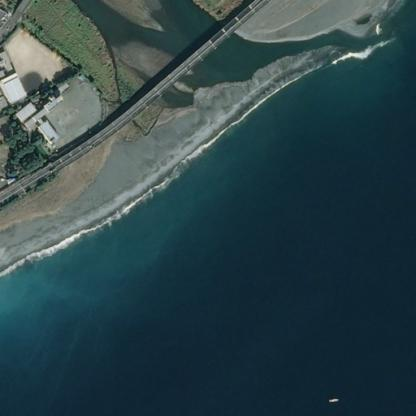ship: (323, 394, 344, 406)
